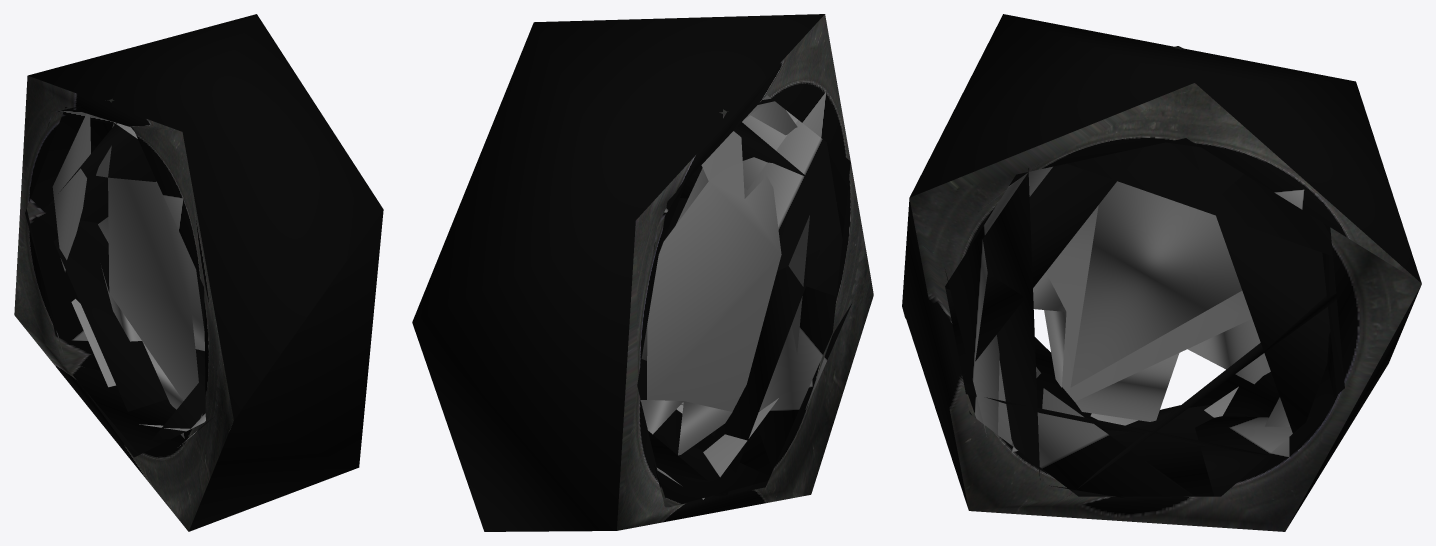
File: M3_wheel_d1.obj
3 renders of one model, left to right at view 1: azimuth 30°, elevation 25°; view 2: azimuth 150°, elevation 25°; view 3: azimuth 270°, elevation 25°, orthographic. The views are drawn at different scales.
Visible parts, largest first — view 1: M3_wheel; view 2: M3_wheel; view 3: M3_wheel.
Part boxes in pixels (left/top/right/bottom): M3_wheel: left=14, top=14, right=383, bottom=531; M3_wheel: left=412, top=14, right=873, bottom=531; M3_wheel: left=902, top=14, right=1421, bottom=531.
Bounding box in the file's own units: 0.2409 × 0.5938 × 0.5921.
1 material, 1 textured.
